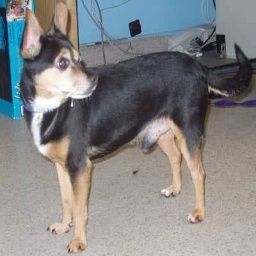dog: (15, 15, 248, 256)
